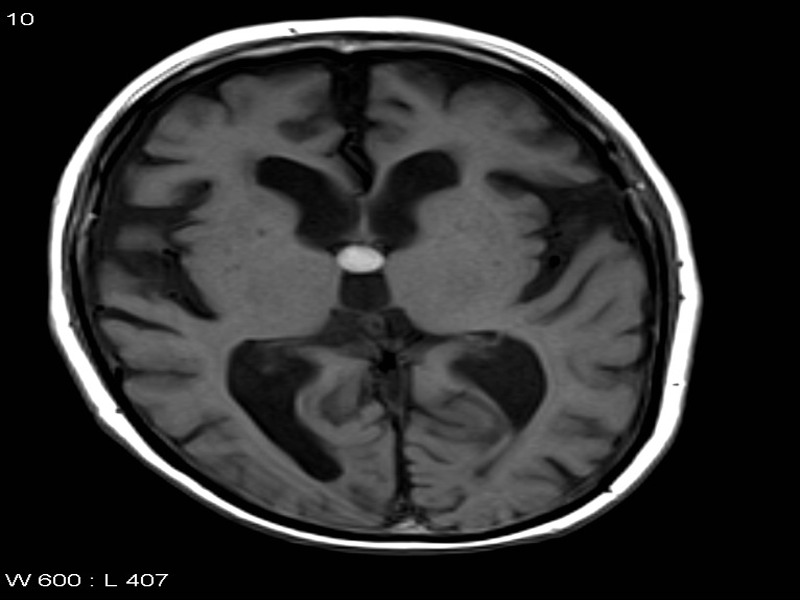tumor: (323, 232, 403, 286)
